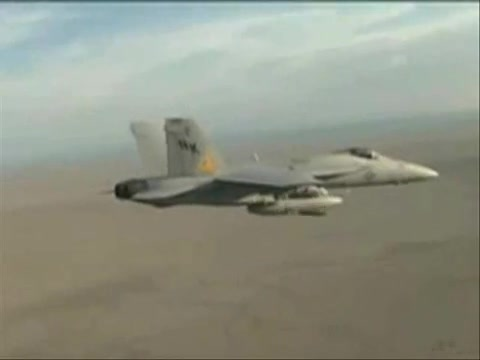aeroplane: (112, 120, 443, 217)
